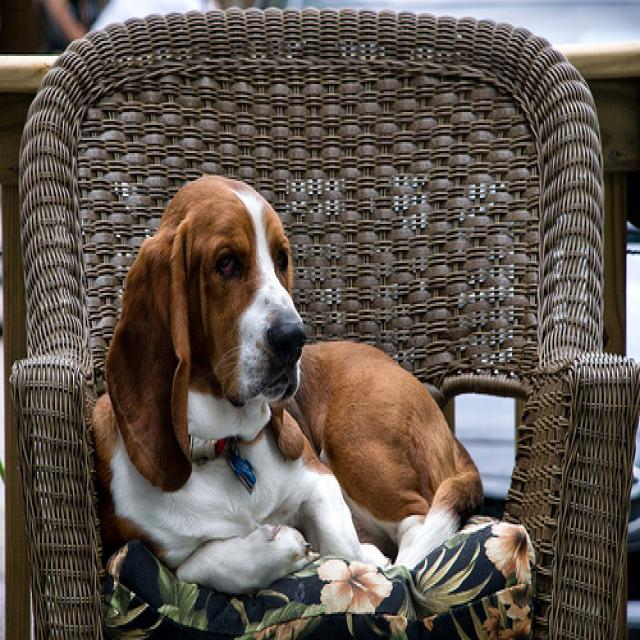dog-basset_hound: (81, 162, 489, 603)
